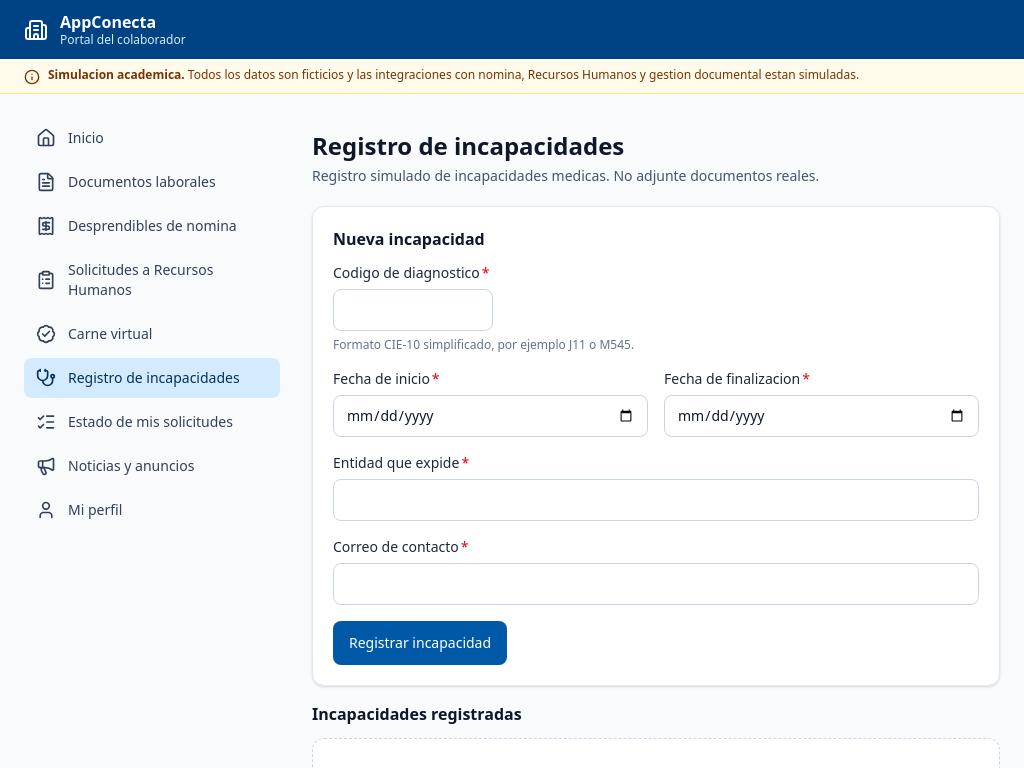
Test: Registro de incapacidades › rechaza un codigo de diagnostico con formato invalido
Type "1234" into the field labelled "Codigo de diagnostico*" at (413, 310), box [333,289,493,331]
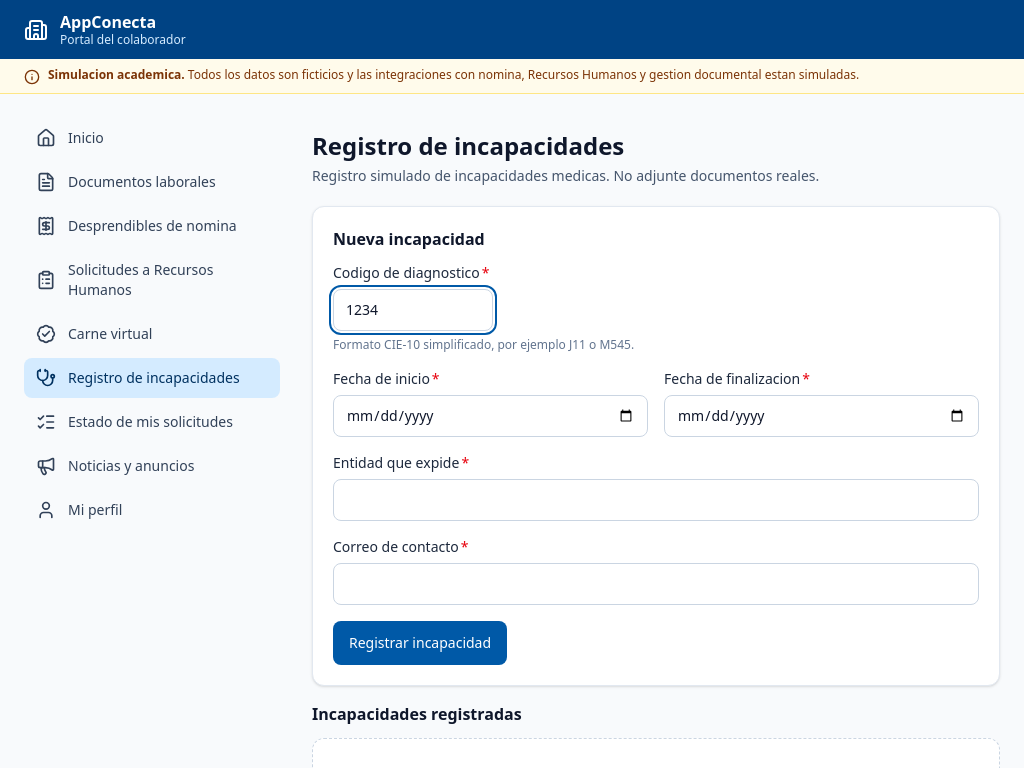
Type "2026-08-10" into the date field labelled "Fecha de inicio*" at (490, 416), box [333,395,648,437]
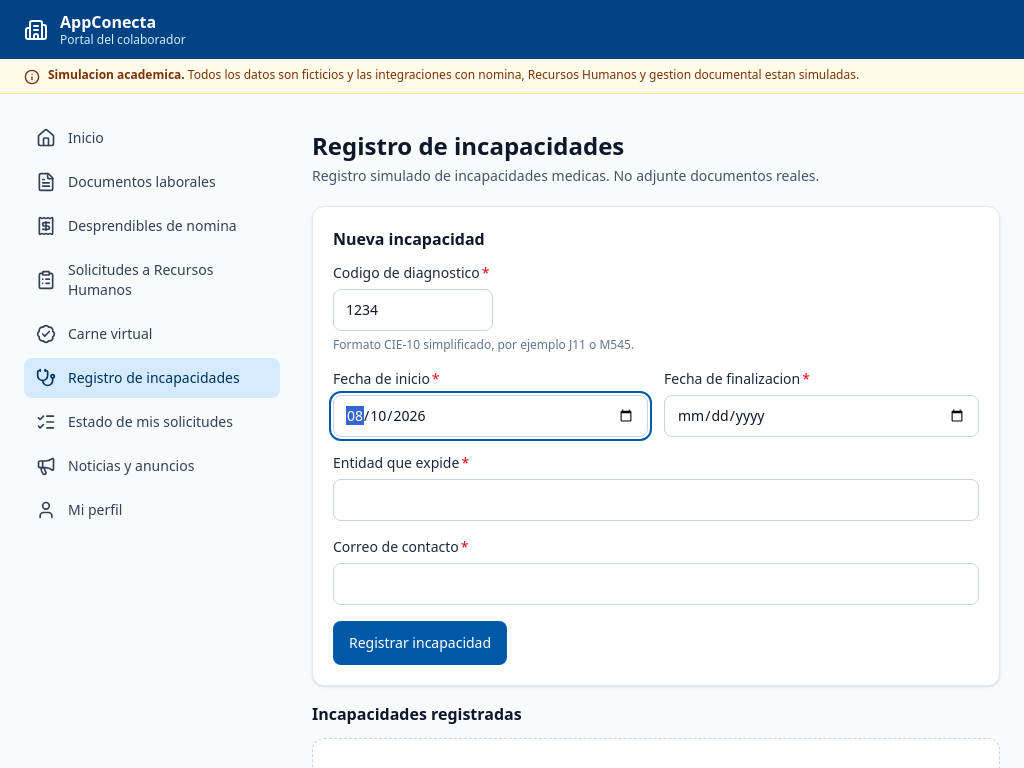
Type "2026-08-13" into the date field labelled "Fecha de finalizacion*" at (822, 416), box [664,395,979,437]
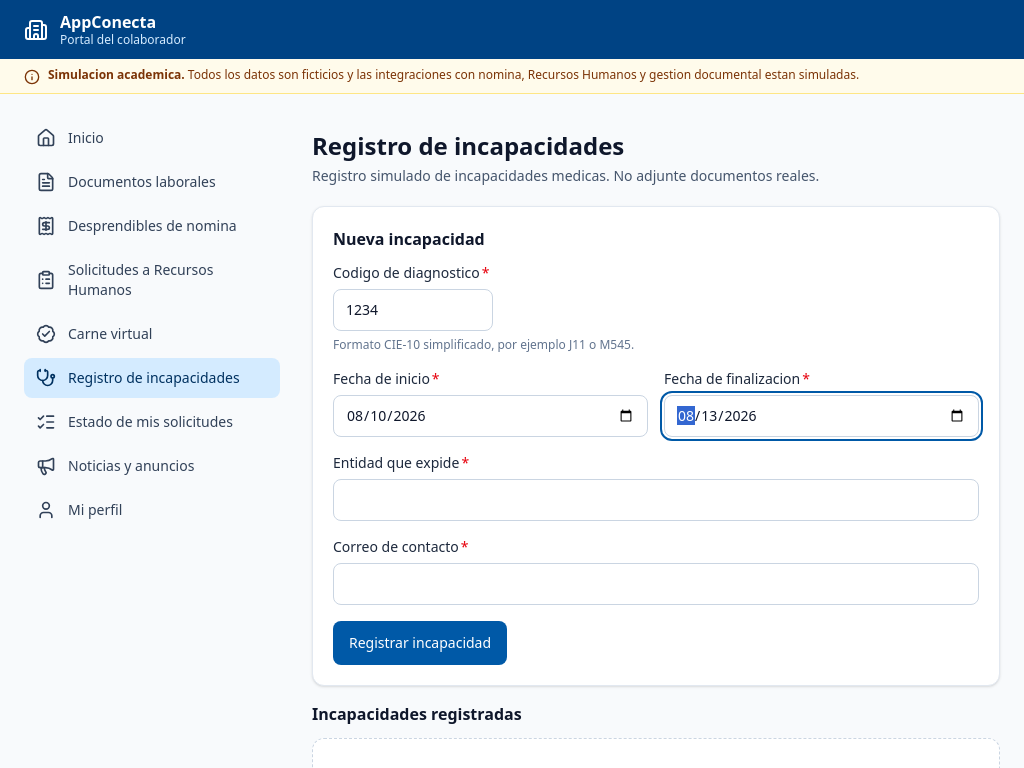
Type "IPS Ficticia del Norte" into the field labelled "Entidad que expide*" at (656, 500), box [333,479,979,521]
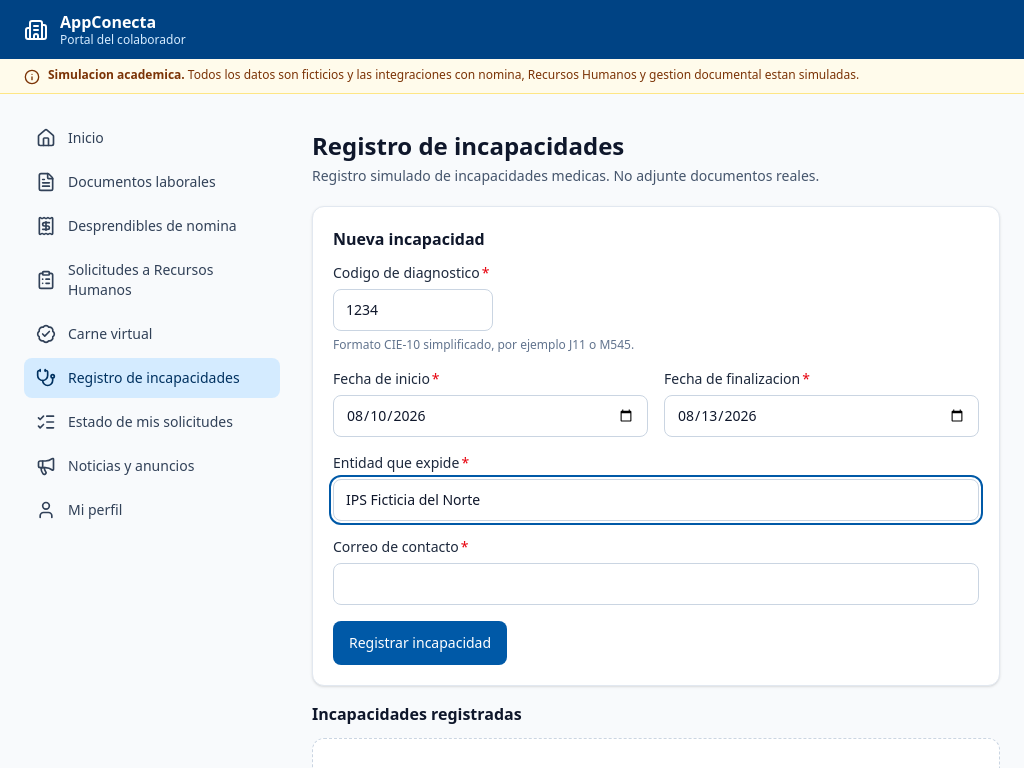
Type "laura.restrepo@appconecta-demo.co" into the field labelled "Correo de contacto*" at (656, 584), box [333,563,979,605]
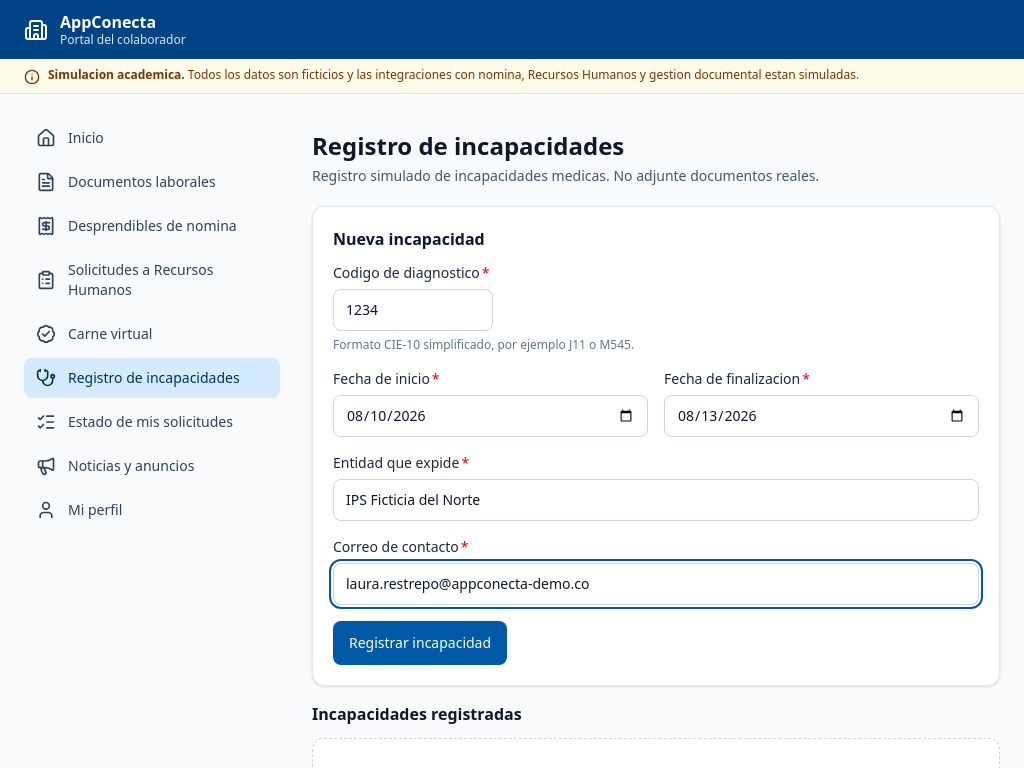
Click the button "Registrar incapacidad" at (420, 643), box [333,621,507,665]
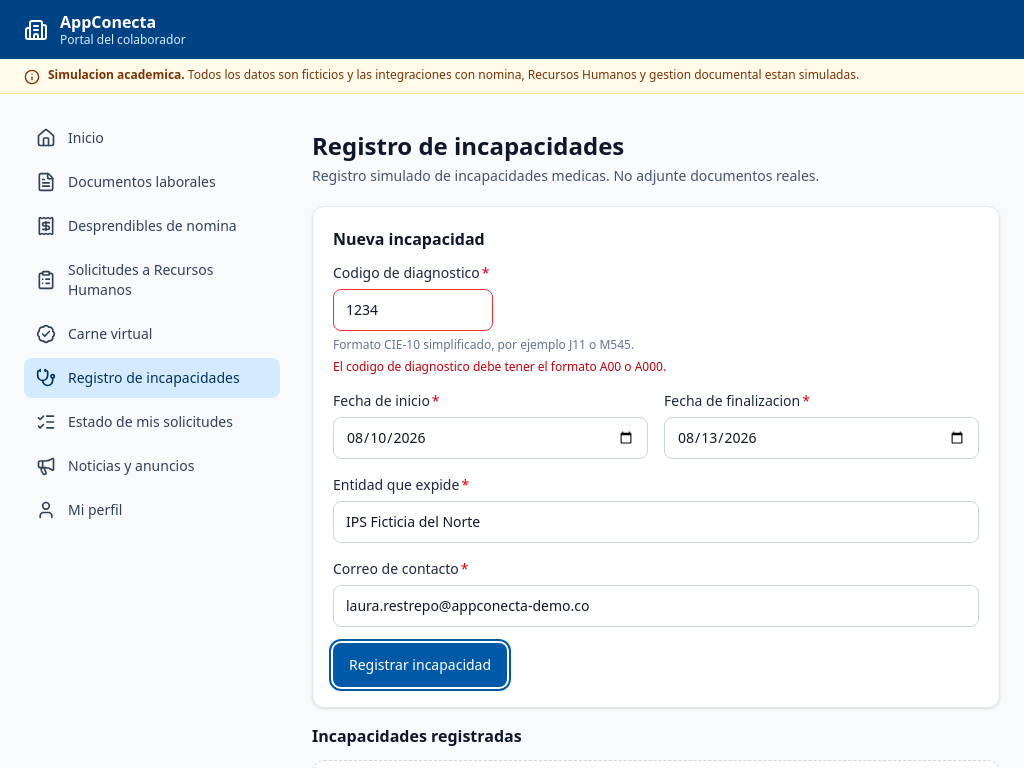
Check: the text "El codigo de diagnostico debe tener el formato A00 o A000." is shown, box [333,358,666,375]
